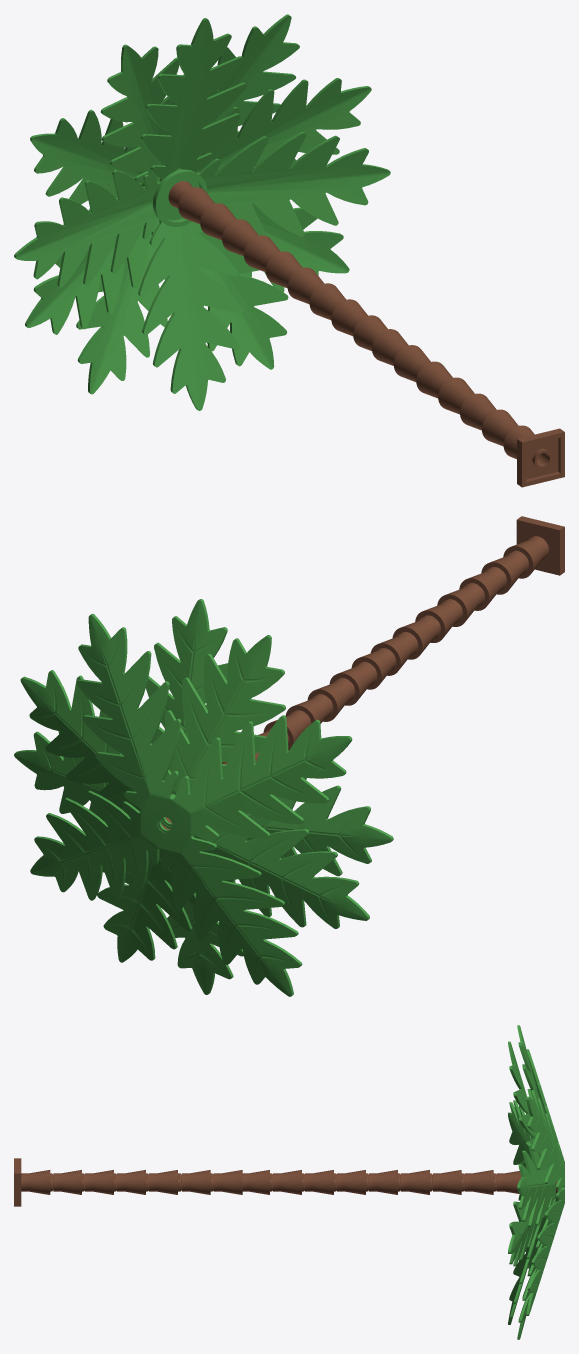
The model's file is palmera.dae.
3 renders of one model, top to bottom at view 1: azimuth 30°, elevation 25°; view 2: azimuth 150°, elevation 25°; view 3: azimuth 270°, elevation 25°, orthographic. The views are drawn at different scales.
Visible parts, largest first — view 1: Inner-Node-palmera_dot_io-17, Inner-Node-palmera_dot_io-16, Inner-Node-palmera_dot_io-18, Inner-Node-palmera_dot_io-19, Inner-Node-palmera_dot_io-7, Inner-Node-palmera_dot_io-5, Inner-Node-palmera_dot_io-12, Inner-Node-palmera_dot_io-10, Inner-Node-palmera_dot_io-14, Inner-Node-palmera_dot_io-15, Inner-Node-palmera_dot_io-4, Inner-Node-palmera_dot_io-9 (+7 smaller); view 2: Inner-Node-palmera_dot_io-18, Inner-Node-palmera_dot_io-16, Inner-Node-palmera_dot_io-17, Inner-Node-palmera_dot_io-19, Inner-Node-palmera_dot_io-7, Inner-Node-palmera_dot_io-5, Inner-Node-palmera_dot_io-12, Inner-Node-palmera_dot_io-15, Inner-Node-palmera_dot_io-0, Inner-Node-palmera_dot_io-1, Inner-Node-palmera_dot_io-3, Inner-Node-palmera_dot_io-9 (+3 smaller); view 3: Inner-Node-palmera_dot_io-18, Inner-Node-palmera_dot_io-17, Inner-Node-palmera_dot_io-16, Inner-Node-palmera_dot_io-19, Inner-Node-palmera_dot_io-8, Inner-Node-palmera_dot_io-9, Inner-Node-palmera_dot_io-7, Inner-Node-palmera_dot_io-1, Inner-Node-palmera_dot_io-0, Inner-Node-palmera_dot_io-2, Inner-Node-palmera_dot_io-3, Inner-Node-palmera_dot_io-4 (+7 smaller).
Part boxes in pixels (x1,y1,x2,y2): Inner-Node-palmera_dot_io-17: (14,18,390,410); Inner-Node-palmera_dot_io-16: (25,44,371,369); Inner-Node-palmera_dot_io-18: (30,14,349,394); Inner-Node-palmera_dot_io-19: (503,425,564,487); Inner-Node-palmera_dot_io-7: (394,345,430,381); Inner-Node-palmera_dot_io-5: (416,361,452,398); Inner-Node-palmera_dot_io-12: (331,299,367,336); Inner-Node-palmera_dot_io-10: (178,187,214,224); Inner-Node-palmera_dot_io-14: (287,267,324,304); Inner-Node-palmera_dot_io-15: (309,283,346,319); Inner-Node-palmera_dot_io-4: (222,219,258,256); Inner-Node-palmera_dot_io-9: (372,329,408,365); Inner-Node-palmera_dot_io-18: (30,613,352,996); Inner-Node-palmera_dot_io-16: (20,635,369,962); Inner-Node-palmera_dot_io-17: (14,599,393,994); Inner-Node-palmera_dot_io-19: (503,516,564,578); Inner-Node-palmera_dot_io-7: (392,615,440,659); Inner-Node-palmera_dot_io-5: (415,599,462,642); Inner-Node-palmera_dot_io-12: (329,661,377,705); Inner-Node-palmera_dot_io-15: (307,678,355,721); Inner-Node-palmera_dot_io-0: (459,567,506,610); Inner-Node-palmera_dot_io-1: (481,550,528,594); Inner-Node-palmera_dot_io-3: (437,583,484,626); Inner-Node-palmera_dot_io-9: (370,632,418,675); Inner-Node-palmera_dot_io-18: (526,1049,564,1315); Inner-Node-palmera_dot_io-17: (508,1041,541,1324); Inner-Node-palmera_dot_io-16: (517,1025,555,1339); Inner-Node-palmera_dot_io-19: (14,1158,50,1206); Inner-Node-palmera_dot_io-8: (461,1170,493,1194); Inner-Node-palmera_dot_io-9: (210,1170,242,1194); Inner-Node-palmera_dot_io-7: (178,1170,210,1194); Inner-Node-palmera_dot_io-1: (50,1170,81,1194); Inner-Node-palmera_dot_io-0: (82,1170,113,1194); Inner-Node-palmera_dot_io-2: (366,1170,397,1194); Inner-Node-palmera_dot_io-3: (114,1170,145,1194); Inner-Node-palmera_dot_io-4: (430,1170,461,1194).
Size of the model in its own units: 346 by 345 by 604.
